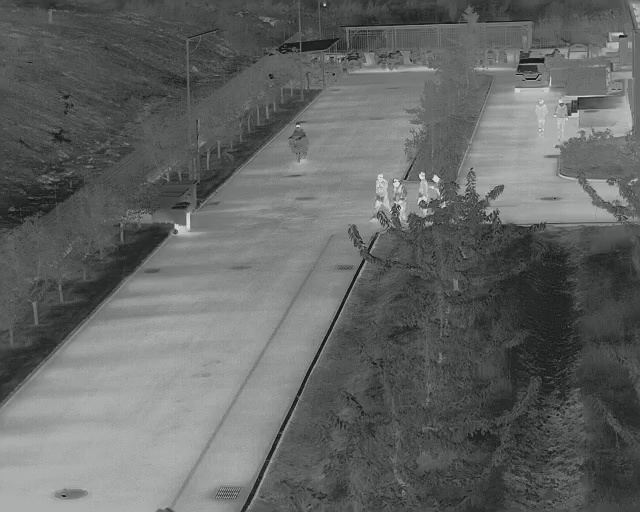NonMotorVehicle: (287, 122, 310, 164)
person: (371, 172, 391, 221), (389, 178, 410, 220), (534, 96, 551, 138), (554, 97, 569, 142), (416, 170, 429, 206)
vehicle: (512, 57, 552, 94)
